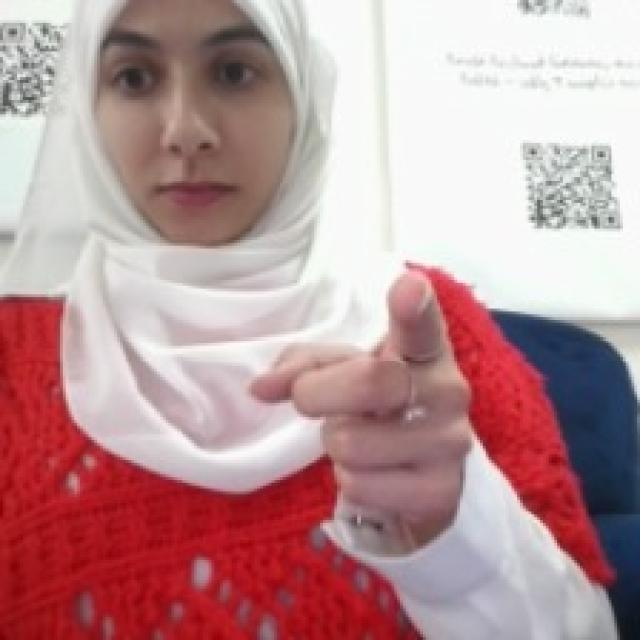you: (243, 263, 477, 523)
